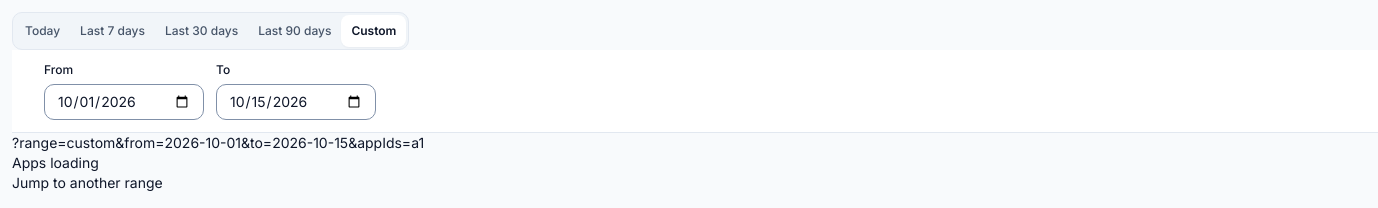
it: date range control › drops the custom dates, and keeps the apps, when a quick range is picked
The image size is (1378, 208).
Expected: the element named "Custom date range" is shown, [44,62,376,120]
Step 1. Click the button "Last 7 days" → (112, 31), box [70,15,155,47]
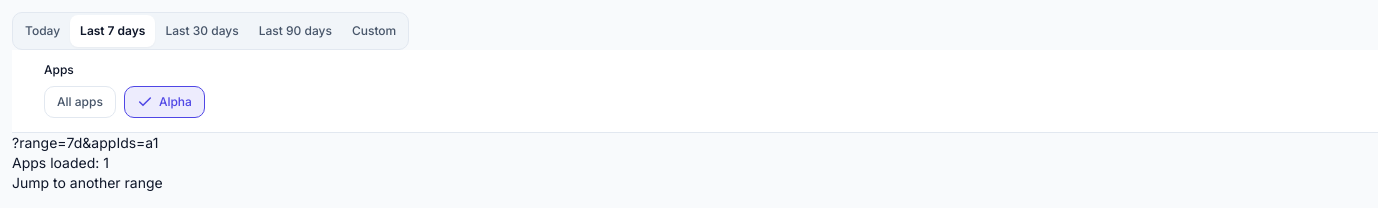
Expected: the text with test id "address" reads "?range=7d&appIds=a1", [12,134,158,151]
Expected: the text "Apps loaded: 1" is shown, [12,154,109,171]
